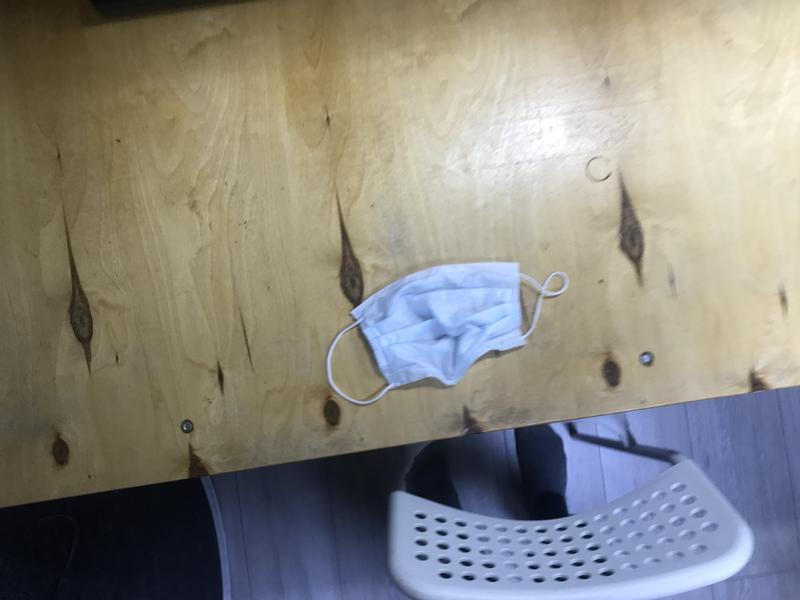medical_mask: (328, 262, 568, 408)
